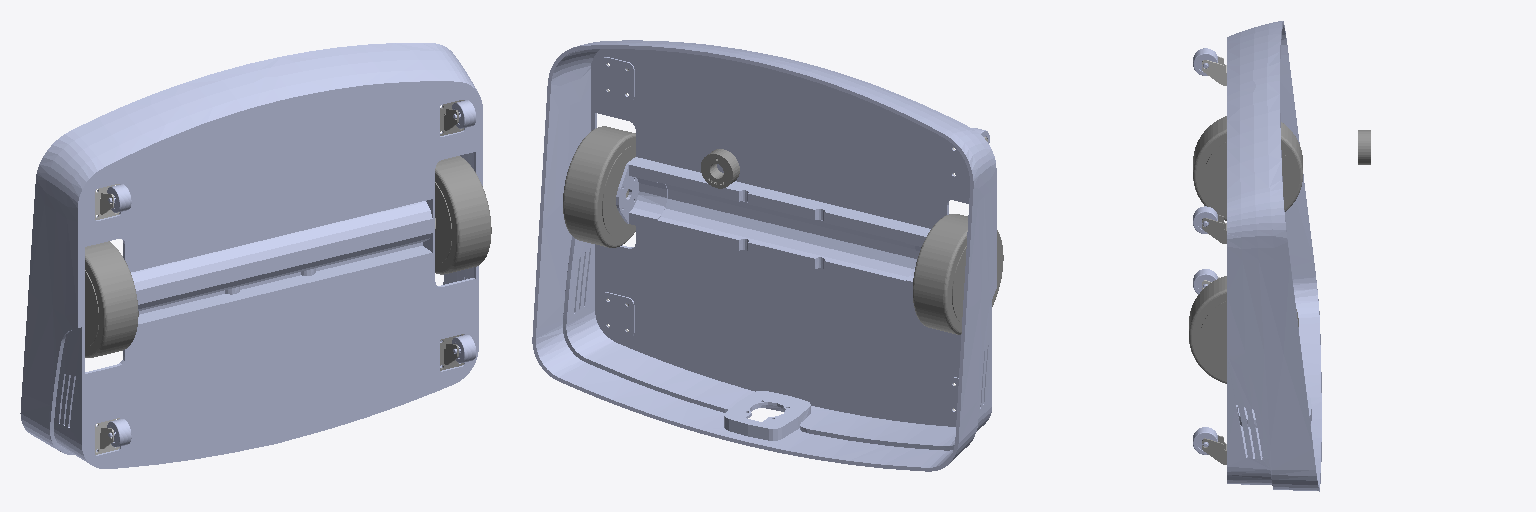
The robot description file, URDF, robot "robot":
<?xml version="1.0" encoding="utf-8"?>
<!-- This URDF was automatically created by SolidWorks to URDF Exporter! Originally created by [author] ([email redacted]) 
     Commit Version: 1.6.0-4-g7f85cfe  Build Version: 1.6.7995.38578
     For more information, please see http://wiki.ros.org/sw_urdf_exporter -->
<robot xmlns:xacro="http://www.ros.org/wiki/xacro">
  <link name="base_link">
    <inertial>
      <origin
        xyz="0.000155648729898483 0.0272260605212869 -0.0160506872006314"
        rpy="0 0 0" />
      <mass
        value="2.39673115484037" />
      <inertia
        ixx="0.0649359676606888"
        ixy="-3.23309878937406E-06"
        ixz="-1.5801707361801E-05"
        iyy="0.151052606287283"
        iyz="0.00348651743736052"
        izz="0.0913994713096704" />
    </inertial>
    <visual>
      <origin
        xyz="0 0 0"
        rpy="0 0 0" />
      <geometry>
        <mesh
          filename="package://alfred/meshes/base_link.STL" />
      </geometry>
      <material
        name="">
        <color
          rgba="0.792156862745098 0.819607843137255 0.933333333333333 1" />
      </material>
    </visual>
    <collision>
      <origin
        xyz="0 0 0"
        rpy="0 0 0" />
      <geometry>
        <mesh
          filename="package://alfred/meshes/base_link.STL" />
      </geometry>
    </collision>
  </link>
  <link name="right_wheel">
    <inertial>
      <origin
        xyz="-1.23207411052706E-06 -1.81423617004461E-07 3.7972214399995E-05"
        rpy="0 0 0" />
      <mass
        value="0.870754309555774" />
      <inertia
        ixx="0.00147130345611962"
        ixy="1.67237487338077E-07"
        ixz="-3.50030378056275E-05"
        iyy="0.0014701923478899"
        iyz="-5.15421732401467E-06"
        izz="0.00254895254910207" />
    </inertial>
    <visual>
      <origin
        xyz="0 0 0"
        rpy="0 0 0" />
      <geometry>
        <mesh
          filename="package://alfred/meshes/right_wheel.STL" />
      </geometry>
      <material
        name="">
        <color
          rgba="0.627450980392157 0.627450980392157 0.627450980392157 1" />
      </material>
    </visual>
    <collision>
      <origin
        xyz="0 0 0"
        rpy="0 0 0" />
      <geometry>
        <mesh
          filename="package://alfred/meshes/right_wheel.STL" />
      </geometry>
    </collision>
  </link>
  <joint name="rightwheel"
    type="continuous">
    <origin
      xyz="-0.26018 0.029145 0.015932"
      rpy="1.3494 -1.421 -1.3518" />
    <parent
      link="base_link" />
    <child
      link="right_wheel" />
    <axis
      xyz="0.032429 0.0047752 -0.99946" />
    <limit
      effort="10"
      velocity="10" />
    <dynamics
      damping="0.1"
      friction="0.1" />
  </joint>
  <link name="left_wheel">
    <inertial>
      <origin
        xyz="-2.77555756156289E-17 0 0.0264620073692989"
        rpy="0 0 0" />
      <mass
        value="0.870754309555773" />
      <inertia
        ixx="0.0014701677220743"
        ixy="1.26537954205295E-20"
        ixz="-1.12236956324533E-20"
        iyy="0.0014701677220743"
        iyz="1.35697148354514E-20"
        izz="0.00255011290896298" />
    </inertial>
    <visual>
      <origin
        xyz="0 0 0"
        rpy="0 0 0" />
      <geometry>
        <mesh
          filename="package://alfred/meshes/left_wheel.STL" />
      </geometry>
      <material
        name="">
        <color
          rgba="0.627450980392157 0.627450980392157 0.627450980392157 1" />
      </material>
    </visual>
    <collision>
      <origin
        xyz="0 0 0"
        rpy="0 0 0" />
      <geometry>
        <mesh
          filename="package://alfred/meshes/left_wheel.STL" />
      </geometry>
    </collision>
  </link>
  <joint name="leftwheel"
    type="revolute">
    <origin
      xyz="0.28572 0.023368 0.015582"
      rpy="3.1416 1.5708 0" />
    <parent
      link="base_link" />
    <child
      link="left_wheel" />
    <axis
      xyz="0 0 1" />
    <limit
      lower="0"
      upper="0"
      effort="10"
      velocity="10" />
    <dynamics
      damping="0.1"
      friction="0.1" />
  </joint>
  <link name="caster_wheel_1">
    <inertial>
      <origin
        xyz="0.00541387546373896 -0.00362424514238398 2.31731049905037E-05"
        rpy="0 0 0" />
      <mass
        value="0.00813681147059775" />
      <inertia
        ixx="6.88663031872148E-07"
        ixy="1.39258615440213E-07"
        ixz="-1.73175409558386E-09"
        iyy="1.31727307889561E-06"
        iyz="4.4442362691297E-10"
        izz="1.14243246485713E-06" />
    </inertial>
    <visual>
      <origin
        xyz="0 0 0"
        rpy="0 0 0" />
      <geometry>
        <mesh
          filename="package://alfred/meshes/caster_wheel_1.STL" />
      </geometry>
      <material
        name="">
        <color
          rgba="0.796078431372549 0.796078431372549 0.796078431372549 1" />
      </material>
    </visual>
    <collision>
      <origin
        xyz="0 0 0"
        rpy="0 0 0" />
      <geometry>
        <mesh
          filename="package://alfred/meshes/caster_wheel_1.STL" />
      </geometry>
    </collision>
  </link>
  <joint name="casterwheel1"
    type="fixed">
    <origin
      xyz="-0.25509 -0.00050335 -0.1737"
      rpy="-0.34384 -1.5669 0.34384" />
    <parent
      link="base_link" />
    <child
      link="caster_wheel_1" />
    <axis
      xyz="0 0 0" />
    <limit
      effort="10"
      velocity="10" />
  </joint>
  <link name="caster_wheel_01">
    <inertial>
      <origin
        xyz="1.38777878078145E-17 -3.46944695195361E-18 -5.55111512312578E-17"
        rpy="0 0 0" />
      <mass
        value="0.015690813753013" />
      <inertia
        ixx="1.58355334748907E-06"
        ixy="-9.24254365042994E-13"
        ixz="-3.01208974436573E-09"
        iyy="1.58354152013519E-06"
        iyz="2.33961114635756E-10"
        izz="2.34600673978302E-06" />
    </inertial>
    <visual>
      <origin
        xyz="0 0 0"
        rpy="0 0 0" />
      <geometry>
        <mesh
          filename="package://alfred/meshes/caster_wheel_01.STL" />
      </geometry>
      <material
        name="">
        <color
          rgba="0.792156862745098 0.819607843137255 0.933333333333333 1" />
      </material>
    </visual>
    <collision>
      <origin
        xyz="0 0 0"
        rpy="0 0 0" />
      <geometry>
        <mesh
          filename="package://alfred/meshes/caster_wheel_01.STL" />
      </geometry>
    </collision>
  </link>
  <joint name="casterwheel01"
    type="revolute">
    <origin
      xyz="0.020025 -0.02806 0.00012279"
      rpy="2.5881E-05 0.0003332 0.076219" />
    <parent
      link="caster_wheel_1" />
    <child
      link="caster_wheel_01" />
    <axis
      xyz="0.0039504 -0.00030685 -0.99999" />
    <limit
      lower="0"
      upper="0"
      effort="10"
      velocity="10" />
    <dynamics
      damping="0.1"
      friction="0.1" />
  </joint>
  <link name="caster_wheel_2">
    <inertial>
      <origin
        xyz="-0.00538390592464583 0.00366600876644682 0.000140264395563694"
        rpy="0 0 0" />
      <mass
        value="0.00813681147059776" />
      <inertia
        ixx="6.91141686832364E-07"
        ixy="1.44060987188059E-07"
        ixz="1.15107747536255E-08"
        iyy="1.31508135810754E-06"
        iyz="-3.53798068585968E-09"
        izz="1.14214553068499E-06" />
    </inertial>
    <visual>
      <origin
        xyz="0 0 0"
        rpy="0 0 0" />
      <geometry>
        <mesh
          filename="package://alfred/meshes/caster_wheel_2.STL" />
      </geometry>
      <material
        name="">
        <color
          rgba="0.796078431372549 0.796078431372549 0.796078431372549 1" />
      </material>
    </visual>
    <collision>
      <origin
        xyz="0 0 0"
        rpy="0 0 0" />
      <geometry>
        <mesh
          filename="package://alfred/meshes/caster_wheel_2.STL" />
      </geometry>
    </collision>
  </link>
  <joint name="casterwheel2"
    type="fixed">
    <origin
      xyz="-0.25509 -0.00050335 0.15807"
      rpy="0.34373 1.544 -2.7978" />
    <parent
      link="base_link" />
    <child
      link="caster_wheel_2" />
    <axis
      xyz="0 0 0" />
    <limit
      effort="10"
      velocity="10" />
    <dynamics
      damping="0.1"
      friction="0.1" />
  </joint>
  <link name="caster_wheel_02">
    <inertial>
      <origin
        xyz="0 0 -5.55111512312578E-17"
        rpy="0 0 0" />
      <mass
        value="0.015690813753013" />
      <inertia
        ixx="1.58431628208126E-06"
        ixy="-6.20213445772099E-10"
        ixz="-2.4285964552773E-08"
        iyy="1.58403789642135E-06"
        iyz="1.94396307842574E-08"
        izz="2.34474742890467E-06" />
    </inertial>
    <visual>
      <origin
        xyz="0 0 0"
        rpy="0 0 0" />
      <geometry>
        <mesh
          filename="package://alfred/meshes/caster_wheel_02.STL" />
      </geometry>
      <material
        name="">
        <color
          rgba="0.792156862745098 0.819607843137255 0.933333333333333 1" />
      </material>
    </visual>
    <collision>
      <origin
        xyz="0 0 0"
        rpy="0 0 0" />
      <geometry>
        <mesh
          filename="package://alfred/meshes/caster_wheel_02.STL" />
      </geometry>
    </collision>
  </link>
  <joint name="casterwheel02"
    type="revolute">
    <origin
      xyz="-0.0198 0.028214 0.00055628"
      rpy="0.0097515 0.012182 -2.4756" />
    <parent
      link="caster_wheel_2" />
    <child
      link="caster_wheel_02" />
    <axis
      xyz="0.031878 -0.025517 -0.99917" />
    <limit
      lower="0"
      upper="0"
      effort="10"
      velocity="10" />
    <dynamics
      damping="0.1"
      friction="0.1" />
  </joint>
  <link name="caster_wheel_3">
    <inertial>
      <origin
        xyz="0.00538392776946806 -0.00366600751332797 -0.000139456326991423"
        rpy="0 0 0" />
      <mass
        value="0.00813681147059775" />
      <inertia
        ixx="6.91159638566033E-07"
        ixy="1.44053452925748E-07"
        ixz="1.1859686889877E-08"
        iyy="1.31508156693025E-06"
        iyz="-3.82016508907123E-09"
        izz="1.14212737012861E-06" />
    </inertial>
    <visual>
      <origin
        xyz="0 0 0"
        rpy="0 0 0" />
      <geometry>
        <mesh
          filename="package://alfred/meshes/caster_wheel_3.STL" />
      </geometry>
      <material
        name="">
        <color
          rgba="0.627450980392157 0.627450980392157 0.627450980392157 1" />
      </material>
    </visual>
    <collision>
      <origin
        xyz="0 0 0"
        rpy="0 0 0" />
      <geometry>
        <mesh
          filename="package://alfred/meshes/caster_wheel_3.STL" />
      </geometry>
    </collision>
  </link>
  <joint name="casterwheel3"
    type="fixed">
    <origin
      xyz="0.25514 -0.00050335 0.15807"
      rpy="-2.8117 -1.5429 2.8116" />
    <parent
      link="base_link" />
    <child
      link="caster_wheel_3" />
    <axis
      xyz="0 0 0" />
    <limit
      effort="10"
      velocity="10" />
  </joint>
  <link name="caster_wheel_03">
    <inertial>
      <origin
        xyz="2.77555756156289E-17 -5.55111512312578E-17 0"
        rpy="0 0 0" />
      <mass
        value="0.015690813753013" />
      <inertia
        ixx="1.58440199551892E-06"
        ixy="-6.97440399293903E-10"
        ixz="2.55914182693428E-08"
        iyy="1.58410669697378E-06"
        iyz="-2.07408605940244E-08"
        izz="2.3445929149146E-06" />
    </inertial>
    <visual>
      <origin
        xyz="0 0 0"
        rpy="0 0 0" />
      <geometry>
        <mesh
          filename="package://alfred/meshes/caster_wheel_03.STL" />
      </geometry>
      <material
        name="">
        <color
          rgba="0.792156862745098 0.819607843137255 0.933333333333333 1" />
      </material>
    </visual>
    <collision>
      <origin
        xyz="0 0 0"
        rpy="0 0 0" />
      <geometry>
        <mesh
          filename="package://alfred/meshes/caster_wheel_03.STL" />
      </geometry>
    </collision>
  </link>
  <joint name="casterwheel03"
    type="revolute">
    <origin
      xyz="0.019891 -0.028498 -0.00059982"
      rpy="-0.010622 -0.013105 0.67212" />
    <parent
      link="caster_wheel_3" />
    <child
      link="caster_wheel_03" />
    <axis
      xyz="0.033595 -0.027227 0.99906" />
    <limit
      lower="0"
      upper="0"
      effort="10"
      velocity="10" />
    <dynamics
      damping="0.1"
      friction="0.1" />
  </joint>
  <link name="caster_wheel_4">
    <inertial>
      <origin
        xyz="0.00541389822389198 -0.00362424516763937 -1.70401862173986E-05"
        rpy="0 0 0" />
      <mass
        value="0.00813681147059775" />
      <inertia
        ixx="6.88662330084556E-07"
        ixy="1.3925808494676E-07"
        ixz="1.63722193057523E-09"
        iyy="1.31727308049548E-06"
        iyz="-5.87375749999557E-10"
        izz="1.14243316504485E-06" />
    </inertial>
    <visual>
      <origin
        xyz="0 0 0"
        rpy="0 0 0" />
      <geometry>
        <mesh
          filename="package://alfred/meshes/caster_wheel_4.STL" />
      </geometry>
      <material
        name="">
        <color
          rgba="0.627450980392157 0.627450980392157 0.627450980392157 1" />
      </material>
    </visual>
    <collision>
      <origin
        xyz="0 0 0"
        rpy="0 0 0" />
      <geometry>
        <mesh
          filename="package://alfred/meshes/caster_wheel_4.STL" />
      </geometry>
    </collision>
  </link>
  <joint name="casterwheel4"
    type="fixed">
    <origin
      xyz="0.25514 -0.00050335 -0.1737"
      rpy="-2.8116 -1.5668 2.8116" />
    <parent
      link="base_link" />
    <child
      link="caster_wheel_4" />
    <axis
      xyz="0 0 0" />
    <limit
      effort="10"
      velocity="10" />
    <dynamics
      damping="0.1"
      friction="0.1" />
  </joint>
  <link name="caster_wheel_04">
    <inertial>
      <origin
        xyz="0 0 0"
        rpy="0 0 0" />
      <mass
        value="0.015690813753013" />
      <inertia
        ixx="1.58355473055731E-06"
        ixy="-1.04217870201633E-12"
        ixz="3.18232739445097E-09"
        iyy="1.5835415301184E-06"
        iyz="-2.4969889564166E-10"
        izz="2.34600534673159E-06" />
    </inertial>
    <visual>
      <origin
        xyz="0 0 0"
        rpy="0 0 0" />
      <geometry>
        <mesh
          filename="package://alfred/meshes/caster_wheel_04.STL" />
      </geometry>
      <material
        name="">
        <color
          rgba="0.792156862745098 0.819607843137255 0.933333333333333 1" />
      </material>
    </visual>
    <collision>
      <origin
        xyz="0 0 0"
        rpy="0 0 0" />
      <geometry>
        <mesh
          filename="package://alfred/meshes/caster_wheel_04.STL" />
      </geometry>
    </collision>
  </link>
  <joint name="casterwheel04"
    type="revolute">
    <origin
      xyz="0.020119 -0.028343 -0.00014448"
      rpy="-3.077E-05 -0.00039215 0.077005" />
    <parent
      link="caster_wheel_4" />
    <child
      link="caster_wheel_04" />
    <axis
      xyz="0.0041737 -0.00032749 0.99999" />
    <limit
      lower="0"
      upper="0"
      effort="10"
      velocity="10" />
    <dynamics
      damping="0.1"
      friction="0.1" />
  </joint>
  <link name="Lidar">
    <inertial>
      <origin
        xyz="7.60771350699907E-05 0.000173648233309398 -0.000166043562173118"
        rpy="0 0 0" />
      <mass
        value="0.0250181551110355" />
      <inertia
        ixx="4.83347969282592E-06"
        ixy="6.56950320024398E-09"
        ixz="-6.28180138828127E-09"
        iyy="6.68909322972297E-06"
        iyz="1.73950484244045E-06"
        izz="6.84494033009201E-06" />
    </inertial>
    <visual>
      <origin
        xyz="0 0 0"
        rpy="0 0 0" />
      <geometry>
        <mesh
          filename="package://alfred/meshes/Lidar.STL" />
      </geometry>
      <material
        name="">
        <color
          rgba="0.627450980392157 0.627450980392157 0.627450980392157 1" />
      </material>
    </visual>
    <collision>
      <origin
        xyz="0 0 0"
        rpy="0 0 0" />
      <geometry>
        <mesh
          filename="package://alfred/meshes/Lidar.STL" />
      </geometry>
    </collision>
  </link>
  <joint name="Lidar"
    type="revolute">
    <origin
      xyz="-0.0010173 0.18784 0.16863"
      rpy="2.3338 0 3.1416" />
    <parent
      link="base_link" />
    <child
      link="Lidar" />
    <axis
      xyz="0 -0.6911 -0.72276" />
    <limit
      lower="0"
      upper="0"
      effort="10"
      velocity="10" />
  </joint>
</robot>

--- Render facts (derived) ---
Views: 3 orthographic renders of the robot side by side, from view 1: azimuth 30°, elevation 25°; view 2: azimuth 150°, elevation 25°; view 3: azimuth 270°, elevation 25°.
Model robot with 12 links and 11 joints (6 revolute, 1 continuous, 4 fixed), rooted at base_link, posed all joints at 0.
Visible links, largest first — view 1: base_link, left_wheel, right_wheel, caster_wheel_1, caster_wheel_2; view 2: base_link, left_wheel, right_wheel, Lidar; view 3: base_link, right_wheel, left_wheel.
Link boxes in pixels (x1=…): base_link: x1=20, y1=43, x2=482, y2=468; left_wheel: x1=435, y1=156, x2=491, y2=274; right_wheel: x1=85, y1=241, x2=138, y2=357; caster_wheel_1: x1=95, y1=418, x2=119, y2=454; caster_wheel_2: x1=95, y1=184, x2=119, y2=219; base_link: x1=532, y1=40, x2=996, y2=471; left_wheel: x1=563, y1=126, x2=635, y2=247; right_wheel: x1=913, y1=214, x2=1003, y2=334; Lidar: x1=701, y1=149, x2=739, y2=188; base_link: x1=1227, y1=21, x2=1321, y2=491; right_wheel: x1=1193, y1=116, x2=1302, y2=220; left_wheel: x1=1189, y1=276, x2=1298, y2=383.
Size in the robot's own frame: 0.6288 by 0.2485 by 0.5136 metres.
12 mesh visuals loaded from 12 distinct referenced files (12 binary STL).
